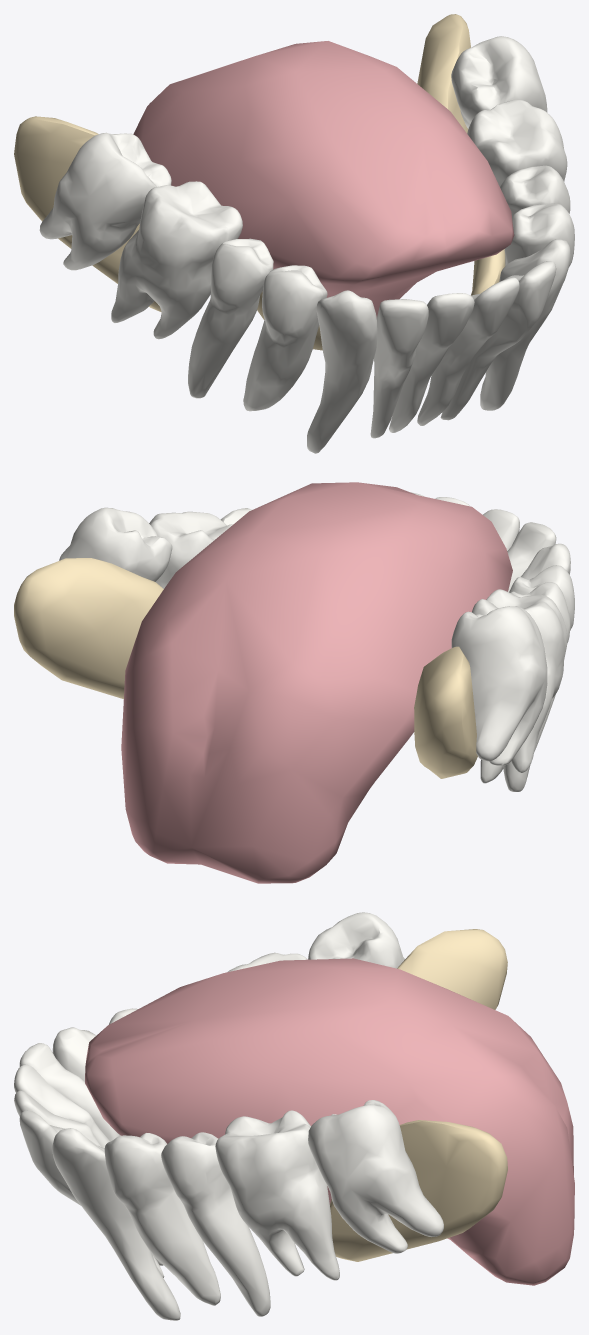
File: ogiz.glb
3 renders of one model, top to bottom at view 1: azimuth 30°, elevation 25°; view 2: azimuth 150°, elevation 25°; view 3: azimuth 270°, elevation 25°, orthographic.
Visible parts, largest first — view 1: ogiz; view 2: ogiz; view 3: ogiz.
Part boxes in pixels (bbox=[...]): ogiz: bbox=[14, 14, 574, 453]; ogiz: bbox=[14, 482, 574, 883]; ogiz: bbox=[14, 912, 574, 1320].
Size of the model in its own units: 0.0656 by 0.0402 by 0.068.
